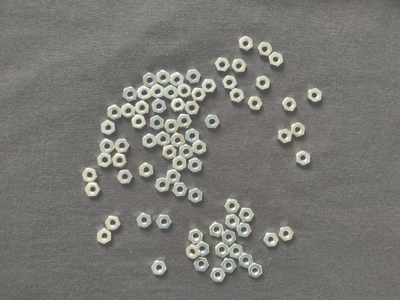nut: (194, 257, 210, 273), (279, 226, 295, 242), (229, 88, 245, 104), (82, 168, 98, 183), (100, 139, 115, 155), (101, 120, 116, 136), (112, 153, 127, 169), (117, 170, 133, 185), (137, 213, 152, 229), (139, 163, 154, 179), (151, 261, 167, 276), (156, 215, 172, 230), (155, 178, 171, 193), (162, 145, 178, 160), (188, 158, 203, 174), (177, 114, 193, 129), (186, 244, 201, 260), (189, 229, 204, 245), (210, 268, 226, 283), (209, 222, 224, 238), (215, 242, 230, 258), (221, 258, 237, 273), (225, 214, 240, 230), (239, 253, 254, 269), (248, 263, 263, 279), (222, 75, 238, 90), (239, 36, 254, 52), (296, 151, 311, 167), (106, 216, 121, 231), (97, 153, 112, 168), (123, 87, 138, 102), (135, 101, 150, 116), (143, 73, 158, 88), (152, 99, 167, 114), (171, 133, 186, 148), (171, 98, 186, 113), (186, 69, 201, 84), (229, 244, 244, 259), (237, 223, 252, 238), (264, 233, 279, 248), (232, 59, 247, 74), (258, 42, 273, 57), (269, 52, 284, 67), (308, 88, 323, 103), (98, 229, 112, 245), (85, 183, 101, 197), (108, 105, 122, 121), (131, 115, 147, 129), (157, 70, 171, 86), (172, 183, 188, 197), (189, 188, 203, 204), (173, 156, 187, 172), (256, 75, 270, 91), (115, 139, 130, 153), (138, 86, 152, 101), (143, 134, 157, 149), (151, 84, 165, 99), (166, 170, 181, 184), (157, 132, 171, 147), (164, 119, 179, 133), (164, 85, 178, 100), (185, 102, 200, 116), (186, 129, 200, 144), (193, 140, 207, 155), (205, 115, 220, 129), (191, 88, 206, 102), (202, 79, 217, 93), (222, 230, 236, 245), (225, 200, 240, 214), (215, 58, 230, 72), (248, 97, 263, 111), (282, 98, 297, 112), (278, 129, 292, 144), (291, 123, 305, 138), (122, 103, 135, 119), (151, 116, 164, 132), (180, 144, 193, 160), (171, 72, 184, 88), (178, 84, 191, 99), (197, 242, 210, 257), (241, 208, 254, 222)
